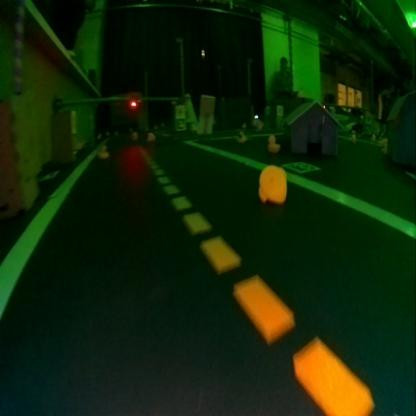Duckie: (260, 165, 286, 202), (266, 134, 279, 152), (97, 145, 108, 157), (236, 130, 245, 142), (147, 132, 153, 140), (131, 132, 137, 140)
QR code: (285, 162, 319, 174), (176, 117, 184, 128)
Traffic light: (129, 99, 136, 107)
